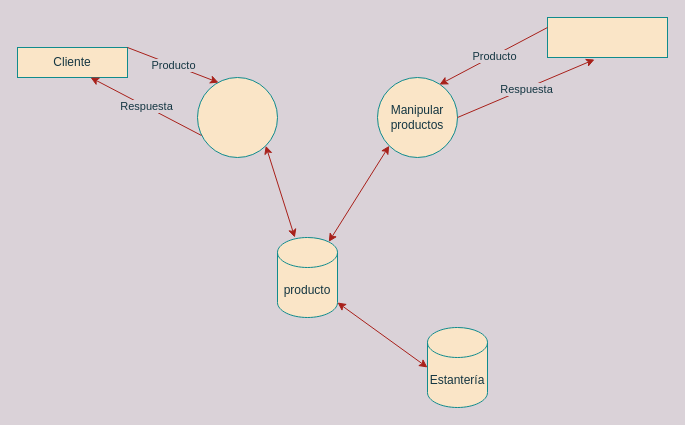
Some shapes in this 685 by 425 pixel diagram are drawn without their labels. Each missing label, with the centre of its shape:
empleado (logística): (x=607, y=37)
Visualizar productos: (x=237, y=117)
